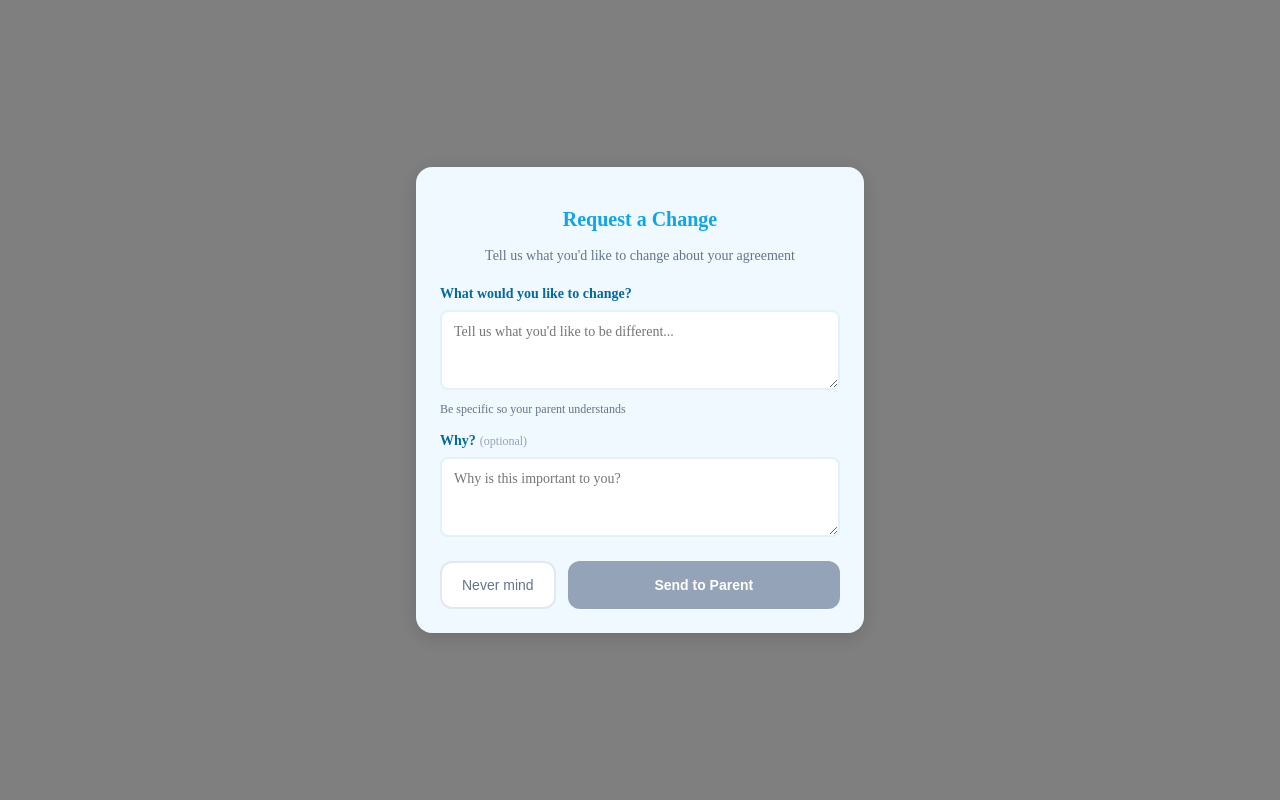
Test case: ChangeRequestModal › Task 2.4: Confirmation message › should show success state after successful submission
Type "More time" into the text box with test id "what-to-change-input" at (640, 350), box top-left (440, 310), bottom-right (840, 390)
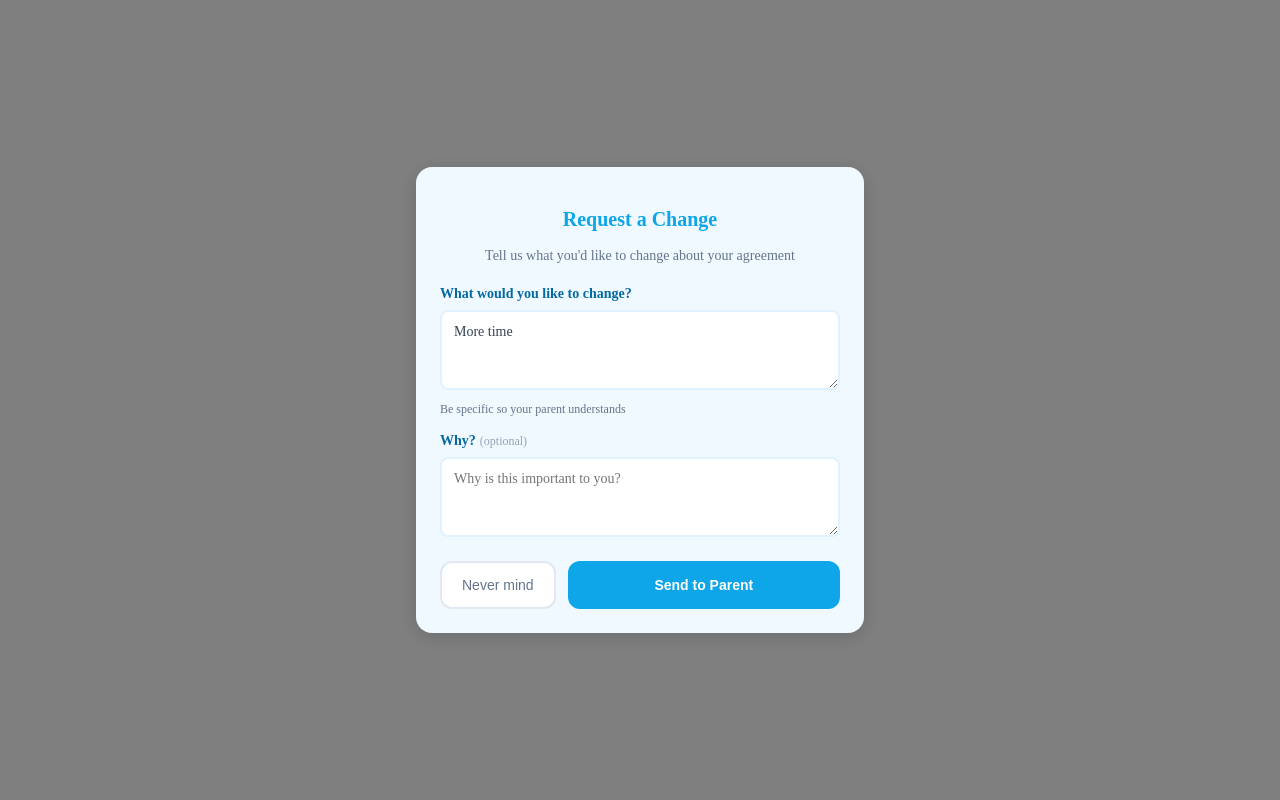
Click the button with test id "submit-button" at (704, 585), box top-left (568, 561), bottom-right (840, 609)
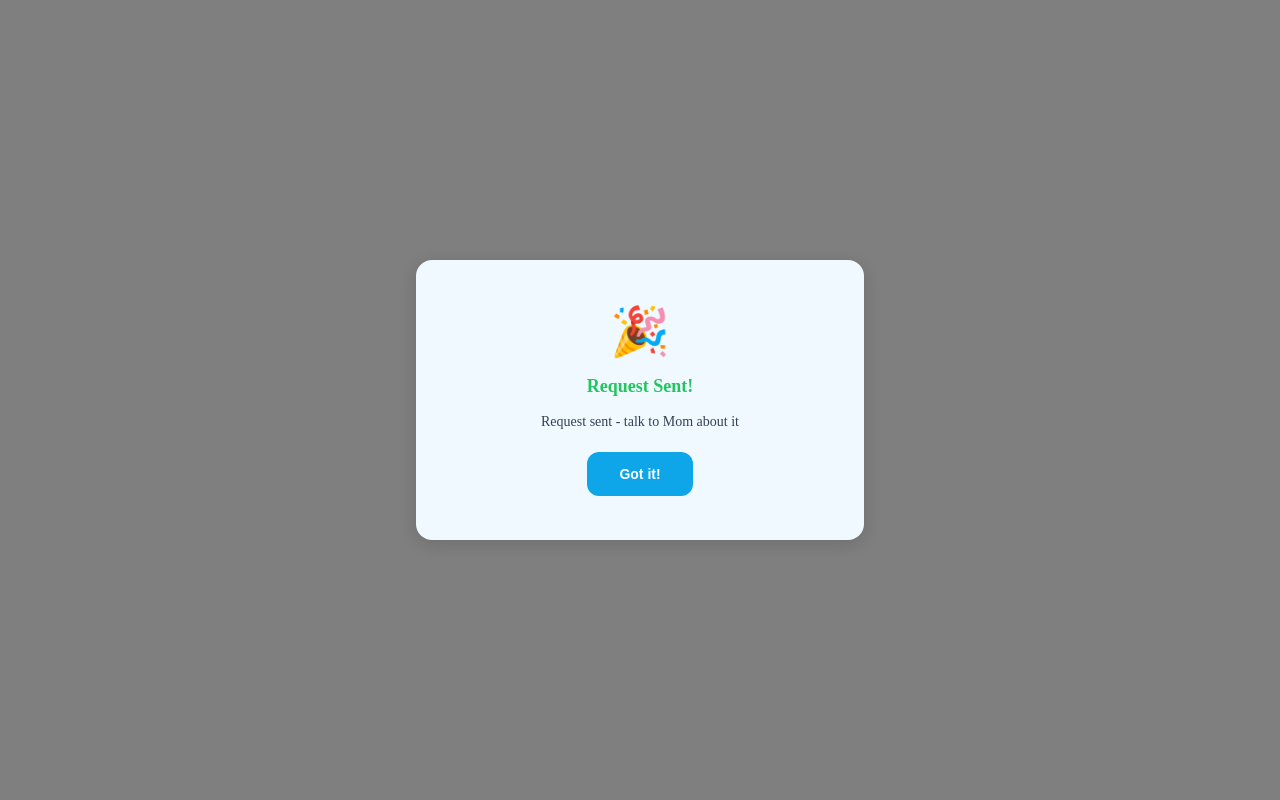
Now the element with test id "success-state" is shown, box top-left (541, 305), bottom-right (739, 496)
